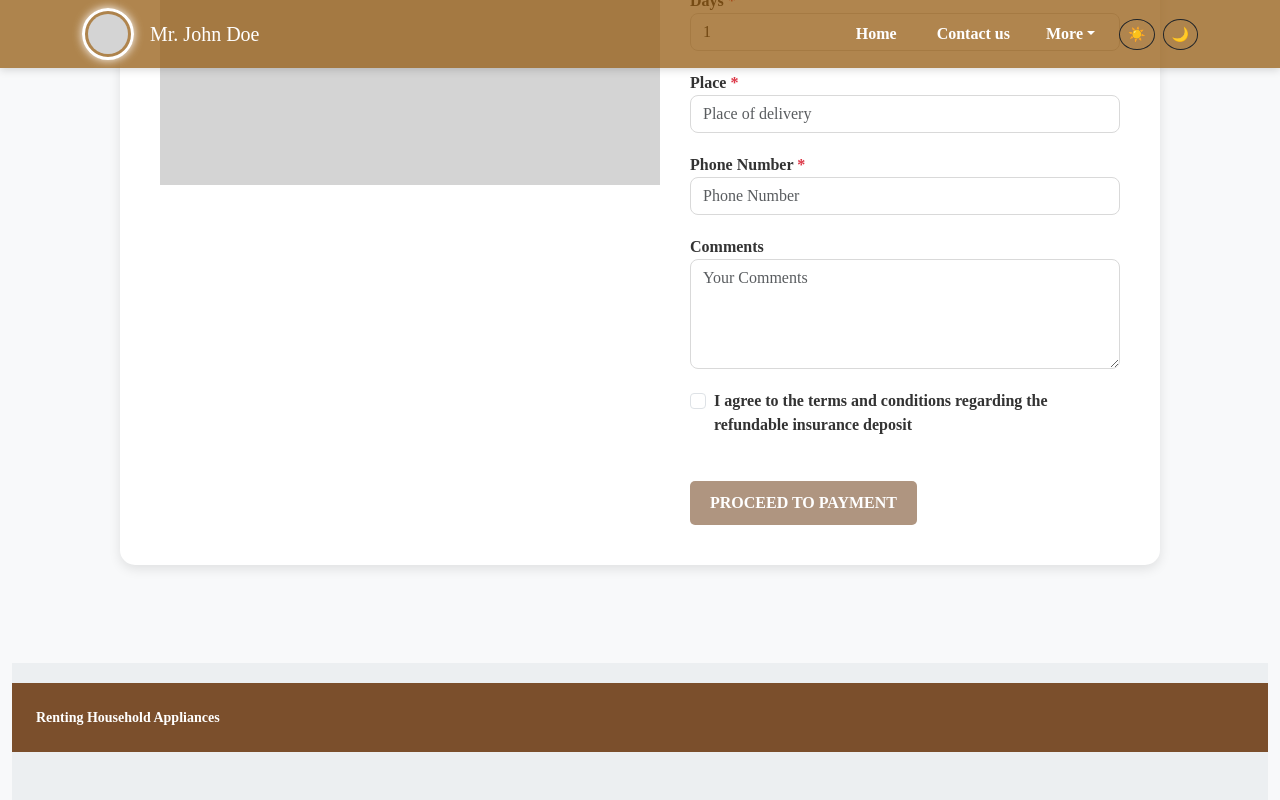
Test: RentalBooking › requires agreeing to terms before enabling submit
(page scrolled)
Expected: the button "PROCEED TO PAYMENT" is disabled, [690,481,917,525]
What coordinates should you click on to do the following:
click the checkbox labelled "I agree to the terms"
I would click on:
 (698, 401)
Its box is [690,393,706,409].
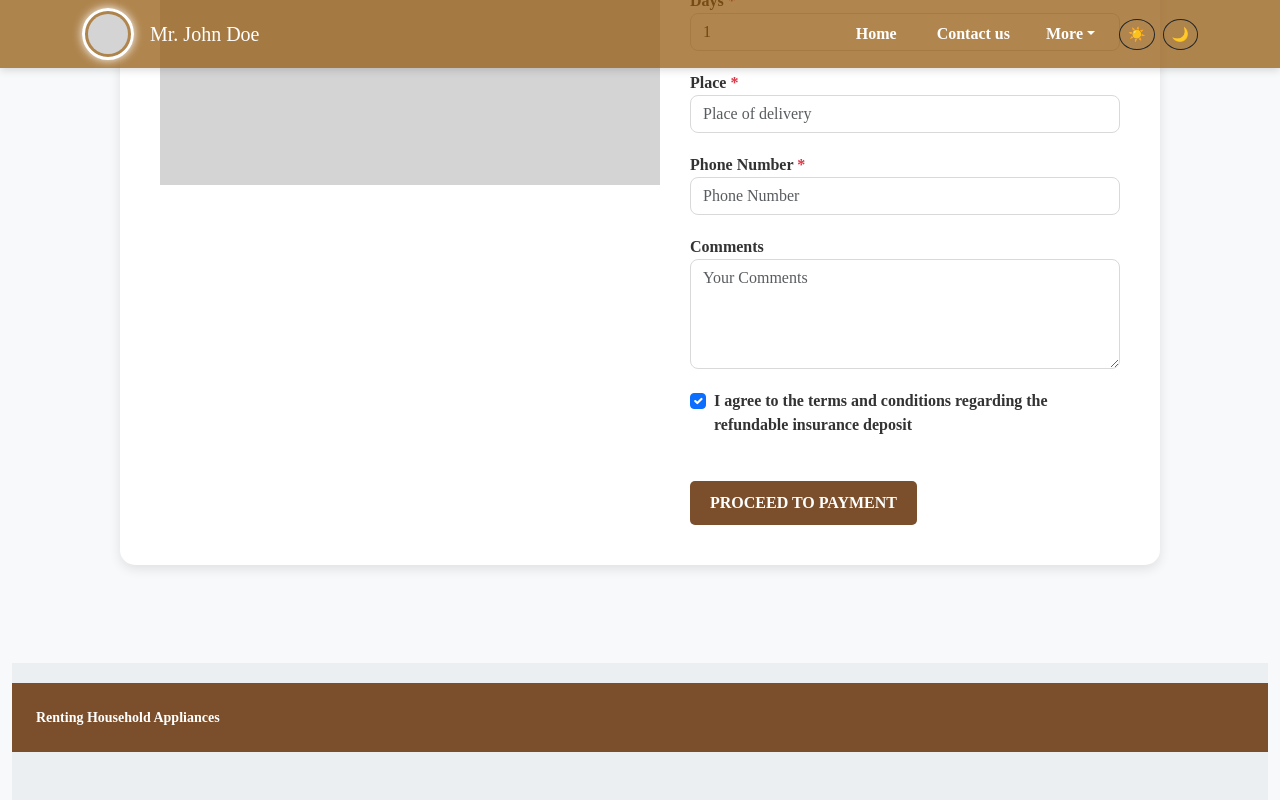
Expected: the button "PROCEED TO PAYMENT" is enabled, [690,481,917,525]
